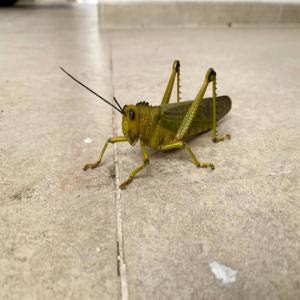locust: (72, 55, 239, 186)
